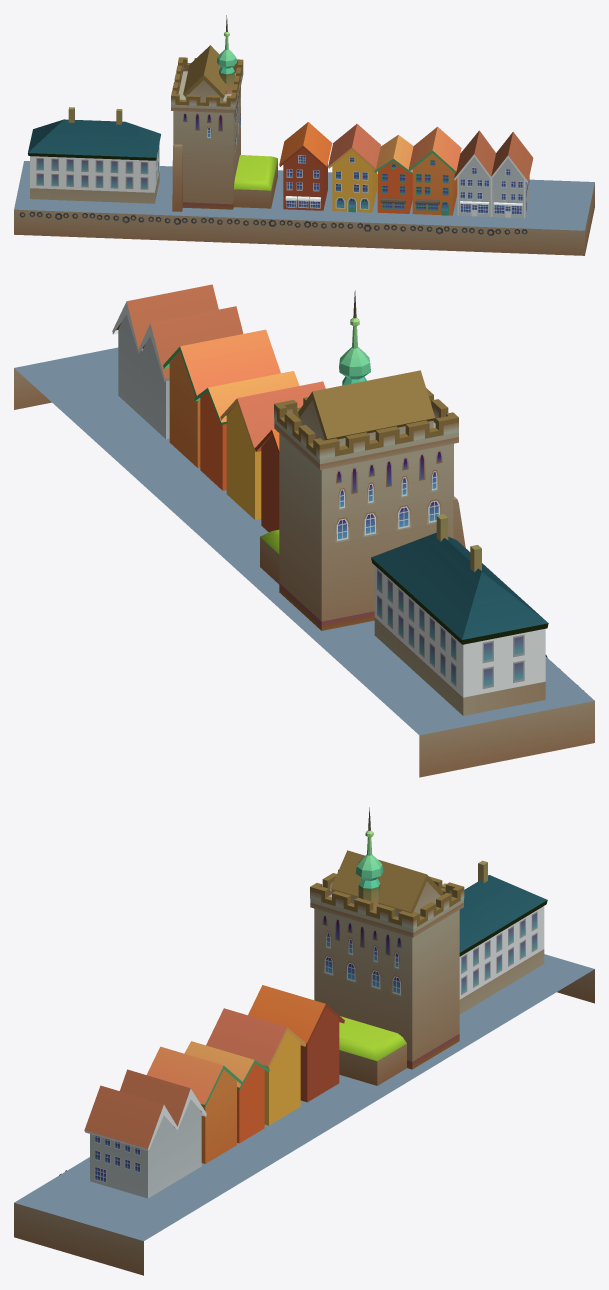
File: Bergen.fbx
3 renders of one model, top to bottom at view 1: azimuth 30°, elevation 25°; view 2: azimuth 150°, elevation 25°; view 3: azimuth 270°, elevation 25°, orthographic. The views are drawn at different scales.
Visible parts, largest first — view 1: Bergen; view 2: Bergen; view 3: Bergen.
Boxes of the visible parts, x1,y1,x2,y2 form: Bergen: [14, 15, 594, 255]; Bergen: [14, 284, 594, 777]; Bergen: [14, 807, 594, 1275].
Size of the model in its own units: 2.61 by 1.09 by 2.06.
1 material, 1 textured.
